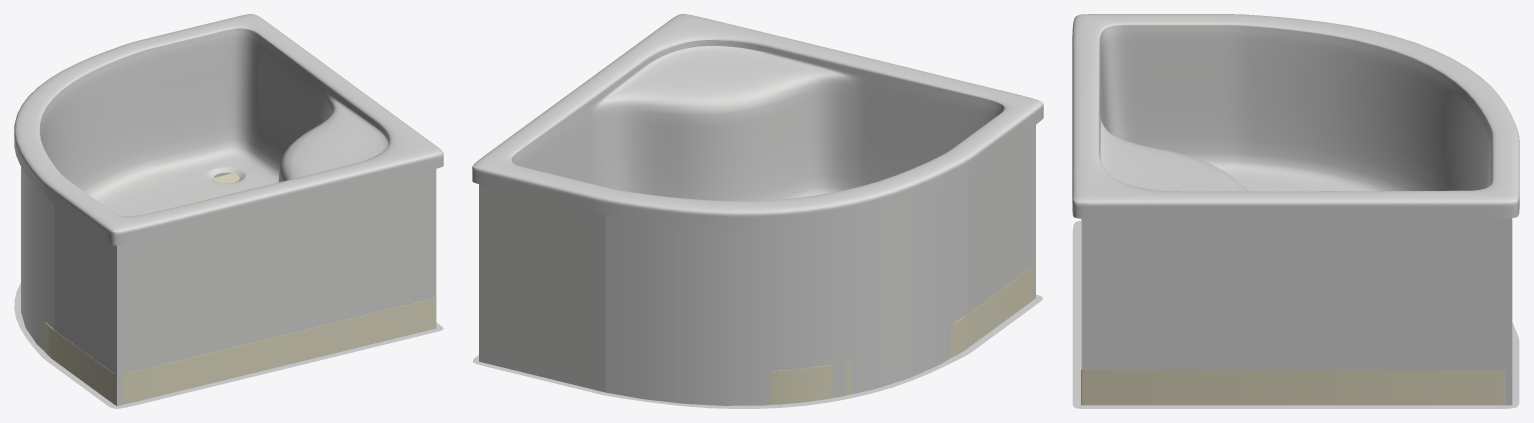
File: Schedpol_Dante_80,1x80,1x28,3-R55.glb
The picture shows the model from 3 angles, left to right: view 1: azimuth 30°, elevation 25°; view 2: azimuth 150°, elevation 25°; view 3: azimuth 270°, elevation 25°; orthographic projection. The views are drawn at different scales.
Parts seen in each view (by area): view 1: 80x80x41 R55, 80x80x41 R55.001, spod_skorupa; view 2: 80x80x41 R55.001, 80x80x41 R55, spod_skorupa; view 3: 80x80x41 R55, 80x80x41 R55.001, spod_skorupa.
Part boxes in pixels (x1=…): 80x80x41 R55: x1=14, y1=14, x2=443, y2=245; 80x80x41 R55.001: x1=21, y1=167, x2=436, y2=405; spod_skorupa: x1=14, y1=173, x2=443, y2=408; 80x80x41 R55.001: x1=479, y1=125, x2=1035, y2=405; 80x80x41 R55: x1=472, y1=14, x2=1043, y2=228; spod_skorupa: x1=472, y1=266, x2=1042, y2=408; 80x80x41 R55: x1=1072, y1=14, x2=1519, y2=218; 80x80x41 R55.001: x1=1081, y1=218, x2=1512, y2=405; spod_skorupa: x1=1072, y1=218, x2=1519, y2=408.
Size of the model in its own units: 0.8009 by 0.4115 by 0.8009.
